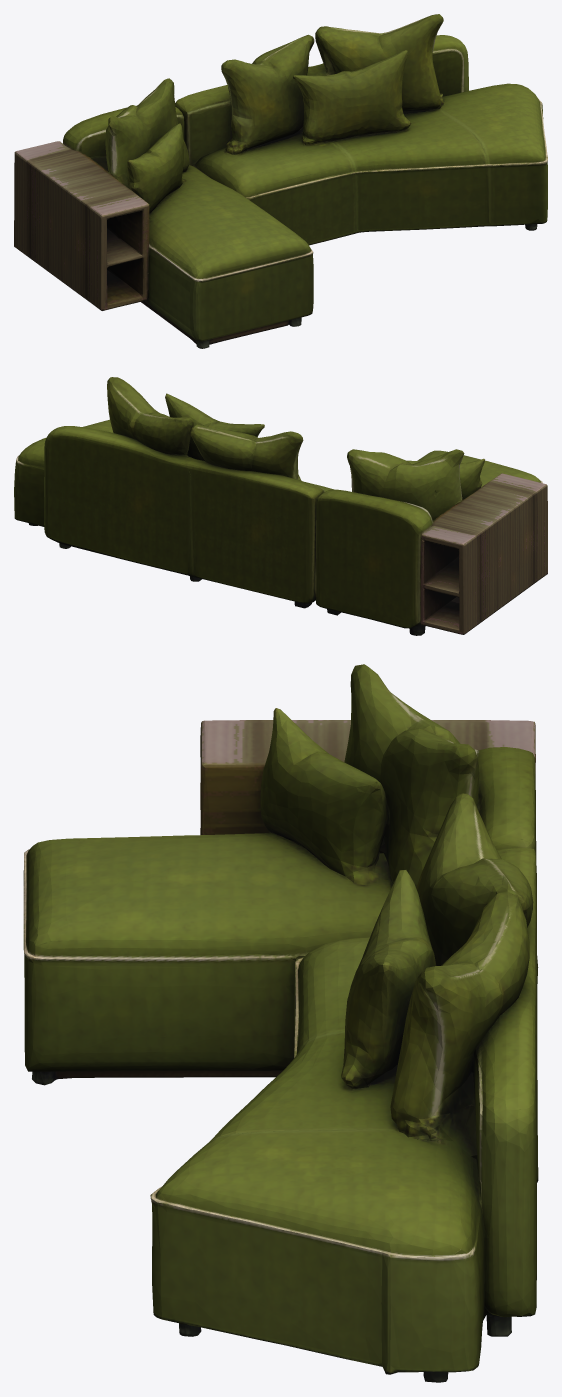
File: SALA PIERO IZQUIERDA MOSS.glb
The picture shows the model from 3 angles, top to bottom: view 1: azimuth 30°, elevation 25°; view 2: azimuth 150°, elevation 25°; view 3: azimuth 270°, elevation 25°; orthographic projection. The views are drawn at different scales.
Visible parts, largest first — view 1: world; view 2: world; view 3: world.
Boxes of the visible parts, box(x1,y1,x2,y2) form: world: box(14, 14, 547, 348); world: box(14, 377, 547, 635); world: box(23, 664, 538, 1382).
Bounding box in the file's own units: 0.9999 × 0.339 × 0.4753.
1 material, 1 textured.
